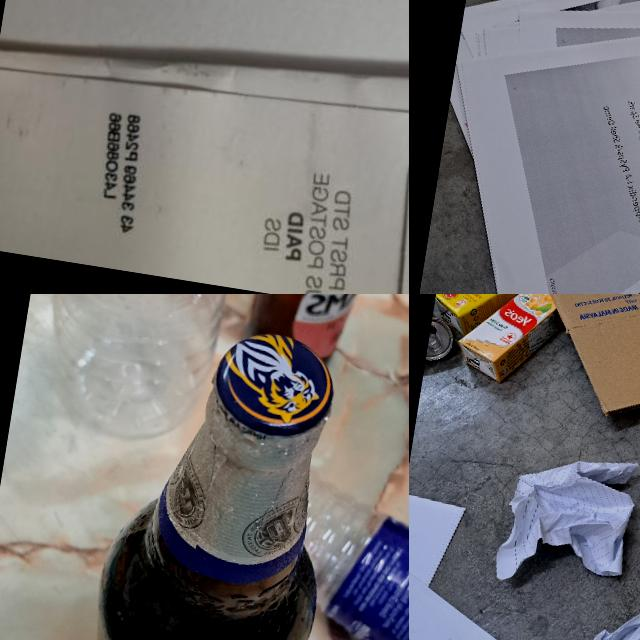aba de lata: (428, 333, 446, 354)
caixinha: (453, 294, 567, 391), (430, 294, 545, 348)
garrafa de vidro: (66, 313, 356, 640), (246, 294, 390, 376)
garrafa plástica: (11, 294, 244, 447), (265, 475, 409, 640)
lata: (426, 294, 463, 364)
papel: (0, 0, 409, 294), (409, 0, 640, 294), (494, 442, 640, 599), (409, 539, 538, 640), (409, 489, 466, 589)
papelão: (457, 294, 640, 461)
